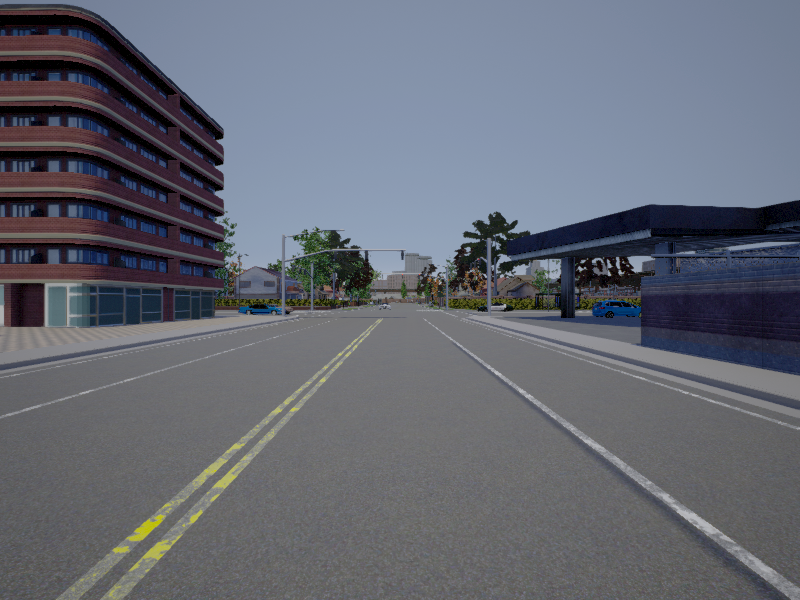benign: (593, 301, 644, 319), (238, 303, 290, 316), (478, 301, 515, 313), (376, 301, 394, 312)
